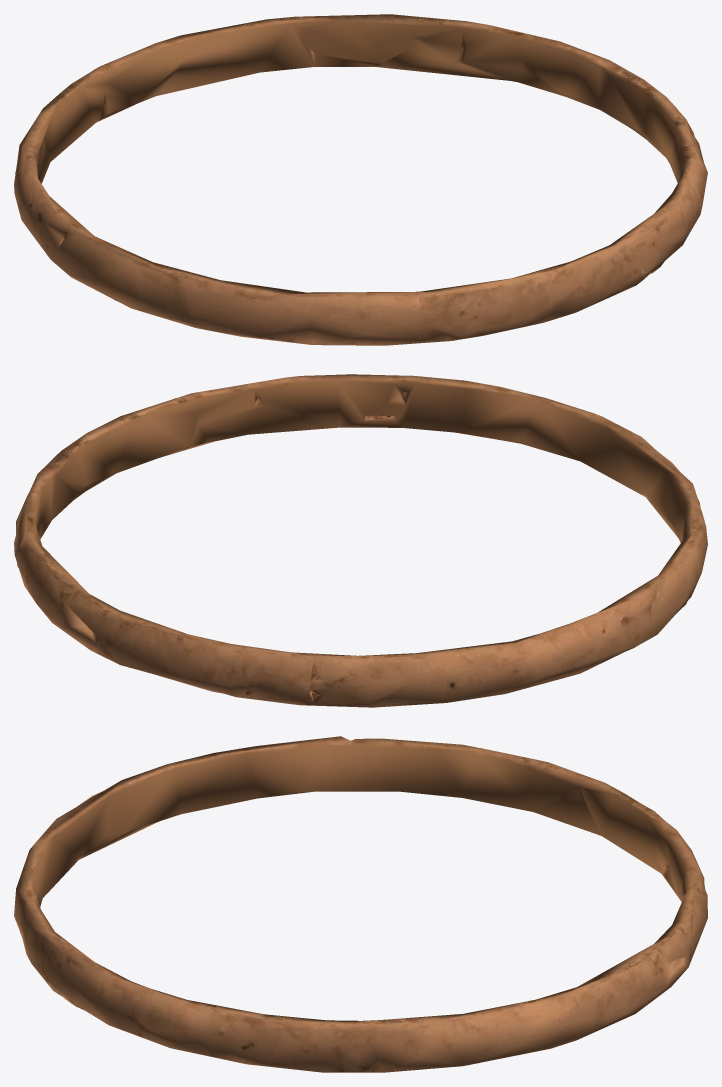
Rendered from crown.glb.
3 views of the same model, one above another, from view 1: azimuth 30°, elevation 25°; view 2: azimuth 150°, elevation 25°; view 3: azimuth 270°, elevation 25° (orthographic).
Visible parts, largest first — view 1: geometry_0; view 2: geometry_0; view 3: geometry_0.
Boxes of the visible parts, x1,y1,x2,y2 form: geometry_0: (14, 14, 707, 345); geometry_0: (14, 374, 707, 707); geometry_0: (14, 736, 707, 1072).
Bounding box in the file's own units: 0.9917 × 0.0802 × 0.9995.
1 material, 1 textured.
